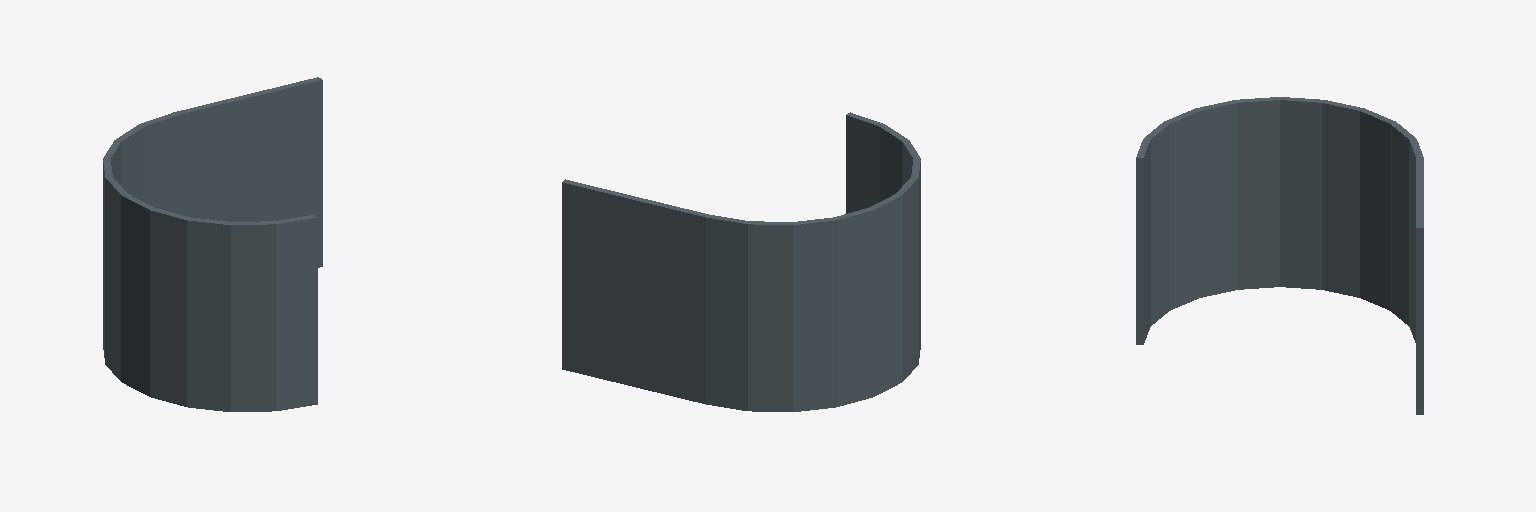
Rendered from baffle_bending.obj.
3 renders of one model, left to right at view 1: azimuth 30°, elevation 25°; view 2: azimuth 150°, elevation 25°; view 3: azimuth 270°, elevation 25°, orthographic.
Visible parts, largest first — view 1: __.1; view 2: __.1; view 3: __.1.
Boxes of the visible parts, x1,y1,x2,y2 form: __.1: [103, 77, 322, 411]; __.1: [562, 112, 920, 411]; __.1: [1136, 97, 1423, 414].
Size of the model in its own units: 866 by 575 by 801.